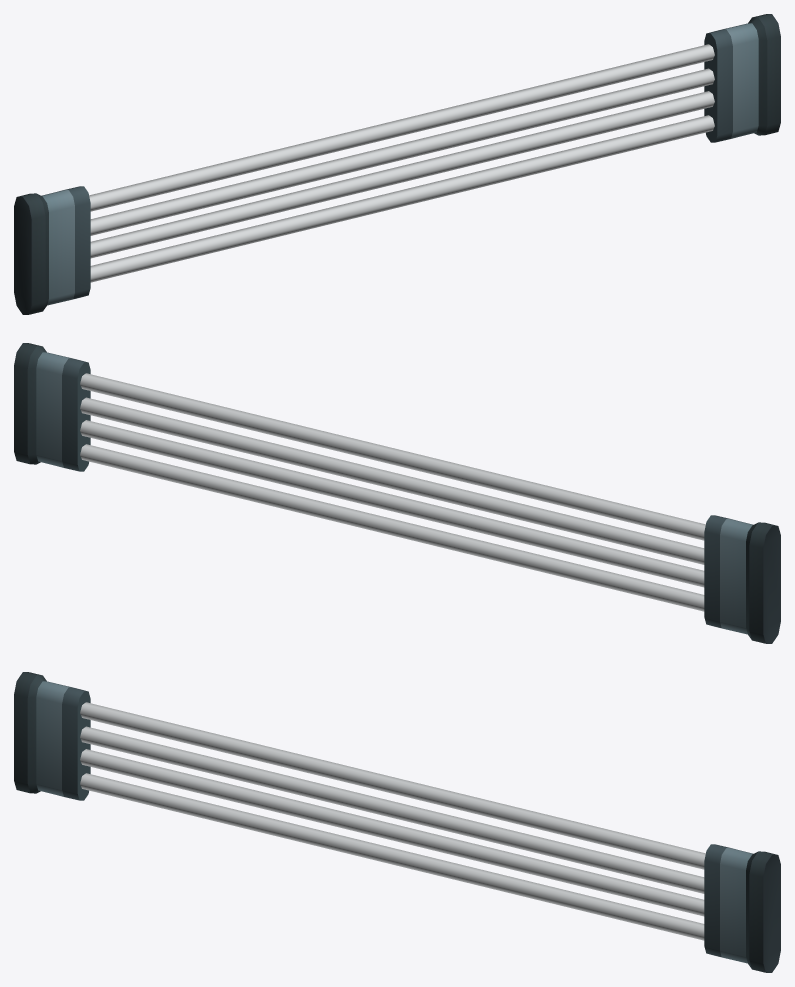
Rendered from Cable_type_B_003.glb.
The picture shows the model from 3 angles, top to bottom: view 1: azimuth 30°, elevation 25°; view 2: azimuth 150°, elevation 25°; view 3: azimuth 330°, elevation 25°; orthographic projection.
Visible parts, largest first — view 1: Cable_type_B_003; view 2: Cable_type_B_003; view 3: Cable_type_B_003.
Boxes of the visible parts, x1,y1,x2,y2 form: Cable_type_B_003: [14, 14, 780, 314]; Cable_type_B_003: [14, 343, 780, 643]; Cable_type_B_003: [14, 672, 780, 972].
Size of the model in its own units: 1.91 by 0.2883 by 0.0783.
Materials: 1 (1 with a texture image).
